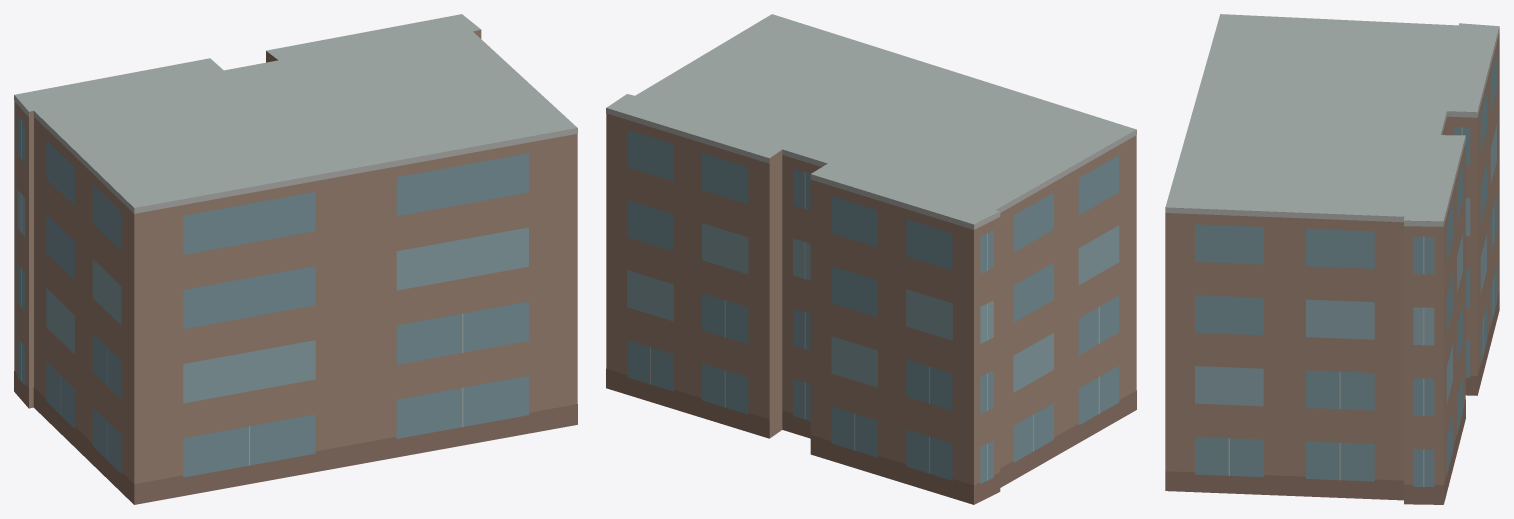
File: survey-upis-32871244.glb
The picture shows the model from 3 angles, left to right: view 1: azimuth 30°, elevation 25°; view 2: azimuth 150°, elevation 25°; view 3: azimuth 270°, elevation 25°; orthographic projection. The views are drawn at different scales.
Visible parts, largest first — view 1: survey-upis-32871244.tmp; view 2: survey-upis-32871244.tmp; view 3: survey-upis-32871244.tmp.
Part boxes in pixels (left/top/right/bottom): survey-upis-32871244.tmp: left=14, top=14, right=577, bottom=504; survey-upis-32871244.tmp: left=606, top=14, right=1136, bottom=504; survey-upis-32871244.tmp: left=1165, top=14, right=1499, bottom=504.
Bounding box in the file's own units: 19.72 × 12.57 × 13.44.
